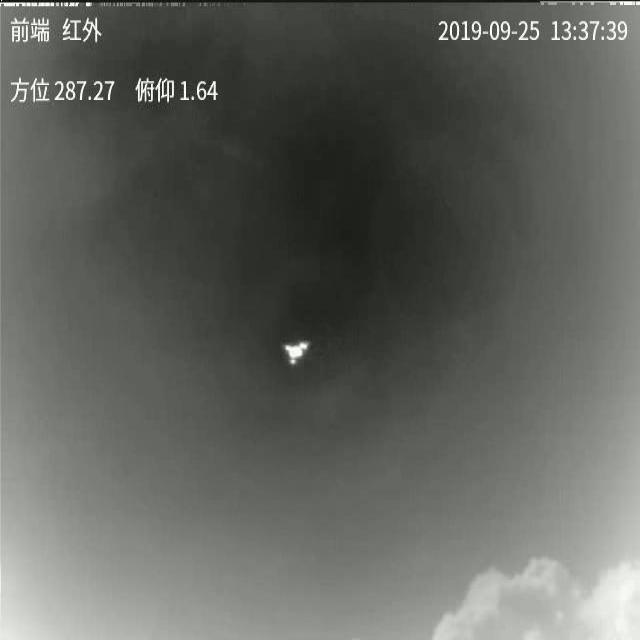drone: (282, 342, 312, 366)
